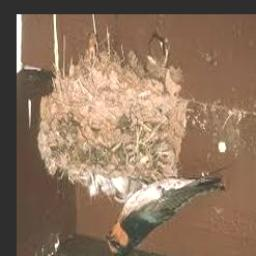Swallow: (106, 175, 225, 256)
